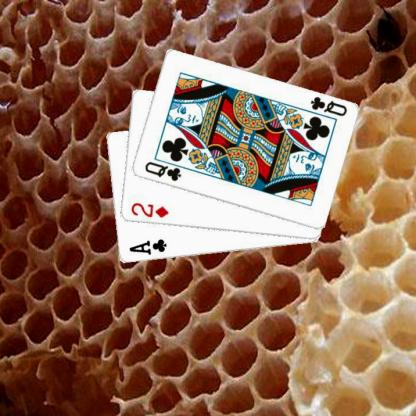2D: (128, 200, 170, 219)
AC: (127, 236, 167, 256)
QC: (307, 94, 348, 118), (142, 160, 182, 182)
